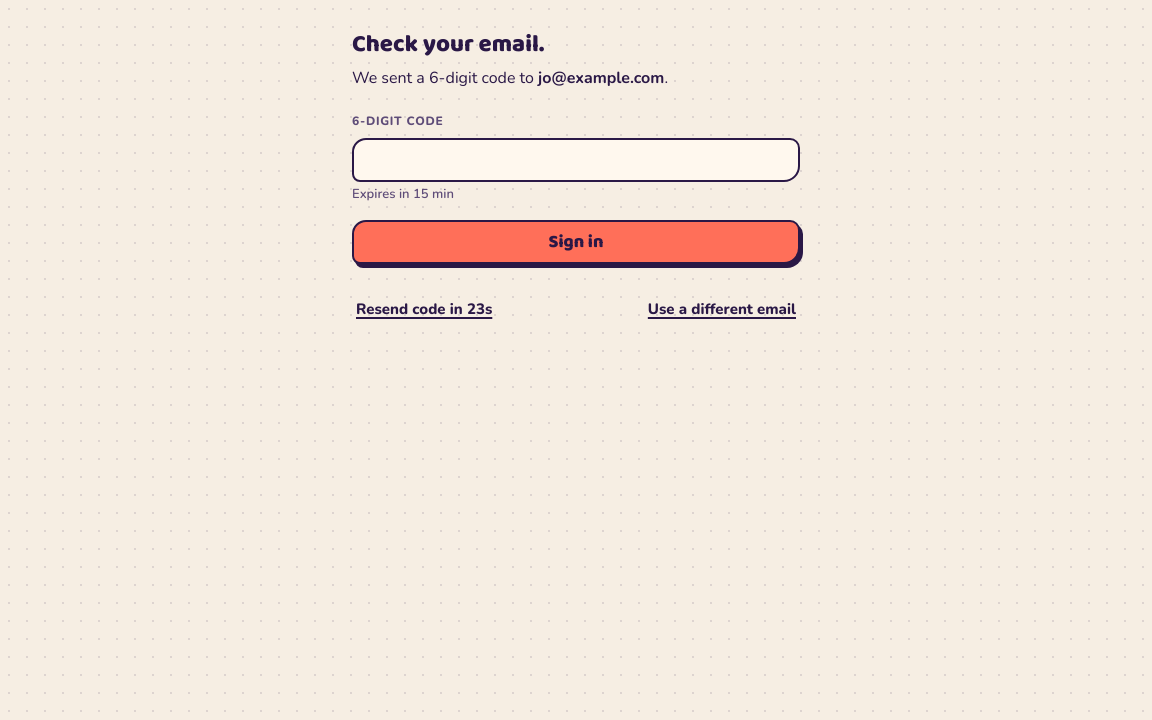
Test: CodeScreen › counts "Resend code" down from 30 s, ignores taps until 0, then resends
Expected: the heading "Check your email." is shown, [352,25,544,64]
Click the button "Resend code in 23s".
click(424, 310)  # box [352,288,496,332]
Wait 23000 ms
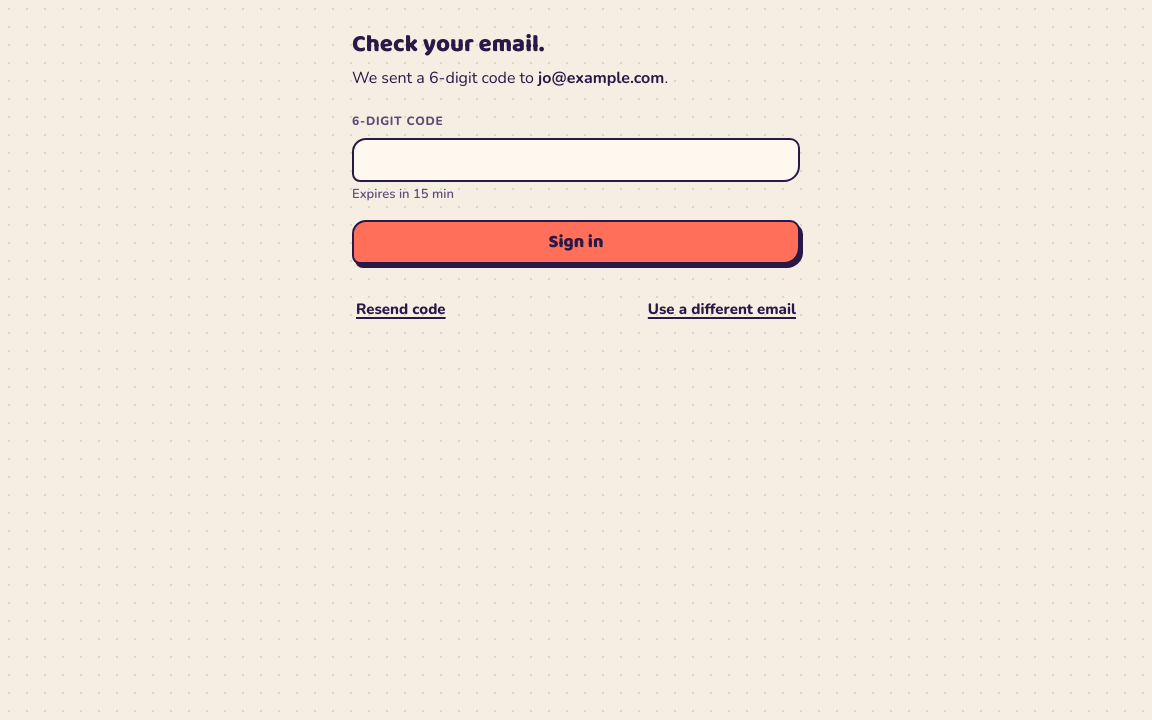
Click the button "Resend code".
click(401, 310)  # box [352,288,450,332]
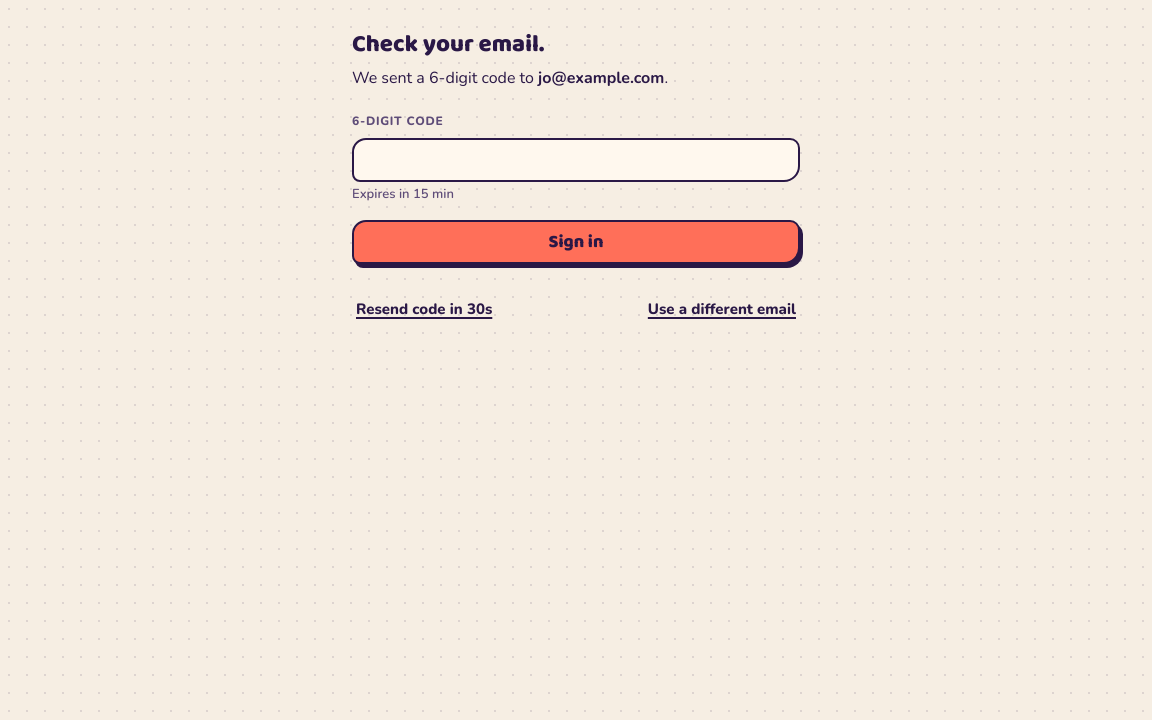
Expected: the button "Resend code in 30s" is shown, [352,288,496,332]
